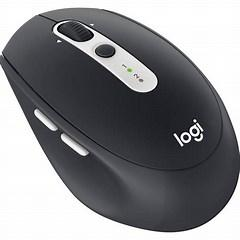computer mouse: (0, 7, 240, 233)
